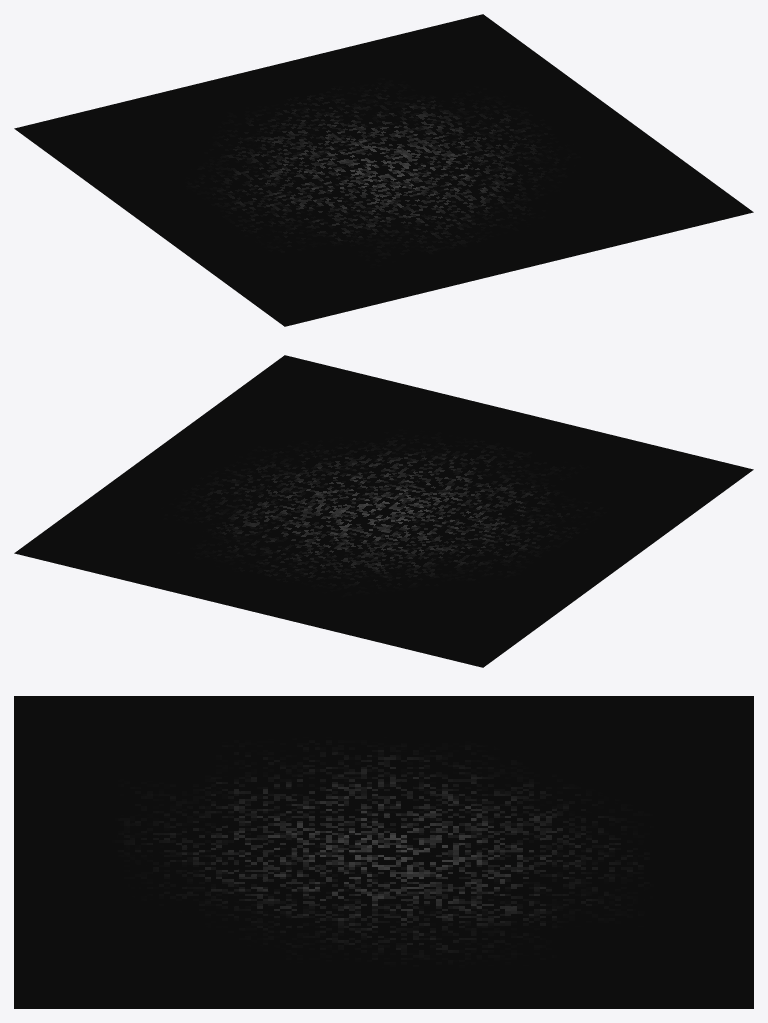
Rendered from light_floor.glb.
3 views of the same model, one above another, from view 1: azimuth 30°, elevation 25°; view 2: azimuth 150°, elevation 25°; view 3: azimuth 270°, elevation 25° (orthographic). The views are drawn at different scales.
Parts seen in each view (by area): view 1: light floor; view 2: light floor; view 3: light floor.
Part boxes in pixels (bbox=[...]): light floor: bbox=[14, 14, 753, 326]; light floor: bbox=[14, 355, 753, 667]; light floor: bbox=[14, 696, 753, 1008].
Bounding box in the file's own units: 12 × 0 × 12.
Materials: 1 (1 with a texture image).
